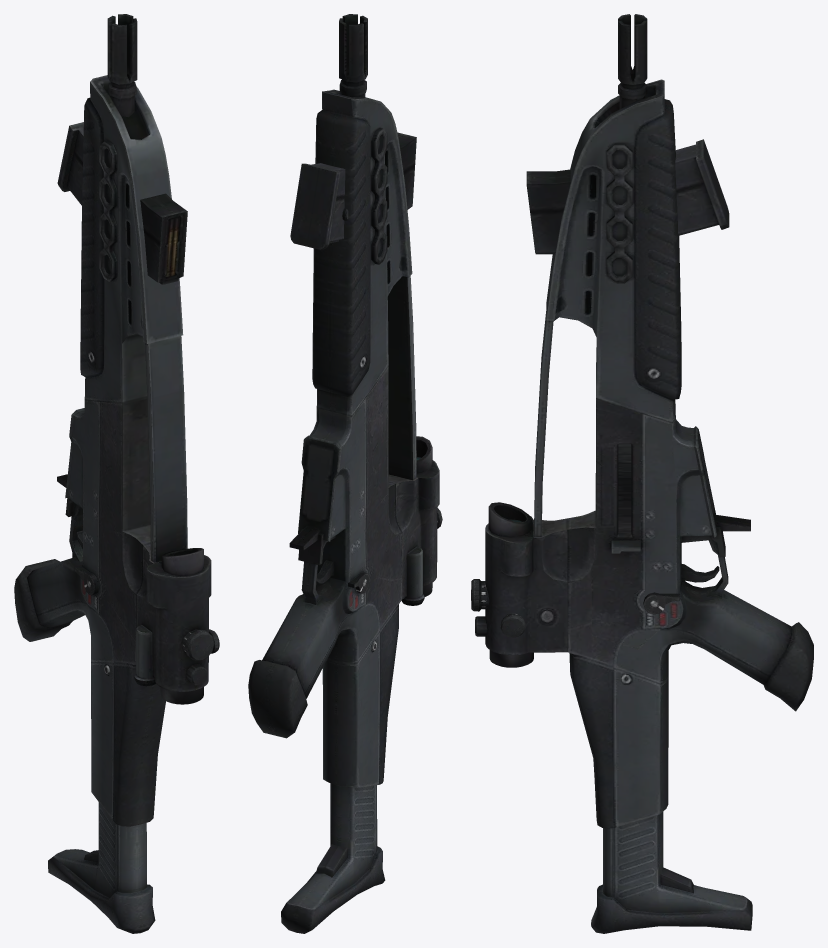
The picture shows the model from 3 angles, left to right: view 1: azimuth 30°, elevation 25°; view 2: azimuth 150°, elevation 25°; view 3: azimuth 270°, elevation 25°; orthographic projection. The views are drawn at different scales.
Parts seen in each view (by area): view 1: XM8, Model_Magazine; view 2: XM8, Model_Magazine; view 3: XM8, Model_Magazine.
Part boxes in pixels (x1=…): XM8: x1=14, y1=14, x2=219, y2=933; Model_Magazine: x1=57, y1=122, x2=187, y2=284; XM8: x1=248, y1=14, x2=442, y2=933; Model_Magazine: x1=290, y1=132, x2=416, y2=249; XM8: x1=471, y1=14, x2=813, y2=933; Model_Magazine: x1=526, y1=139, x2=729, y2=254.
Size of the model in its own units: 0.0613 by 0.839 by 0.2863.
Materials: 1 (1 with a texture image).
